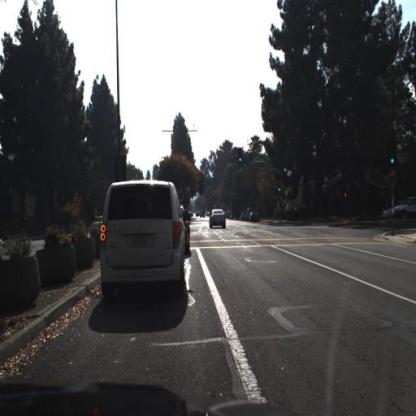car: (98, 175, 188, 303), (394, 195, 416, 224), (209, 204, 229, 232), (209, 209, 228, 230), (381, 203, 399, 222)
trafficLight-Green: (389, 142, 397, 170), (237, 150, 246, 171), (238, 149, 243, 165), (278, 181, 283, 195)
